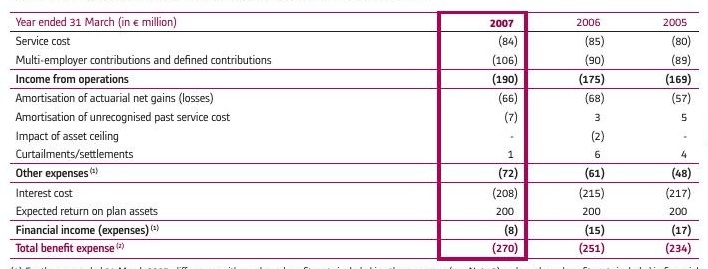table: (0, 0, 708, 269)
